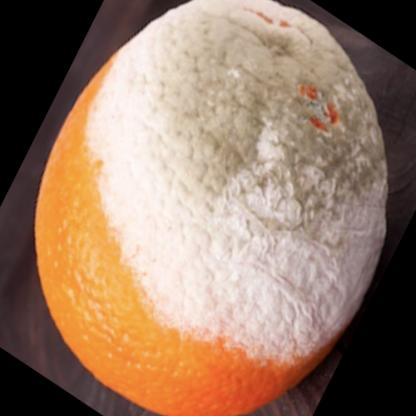rotten: (33, 1, 388, 416)
